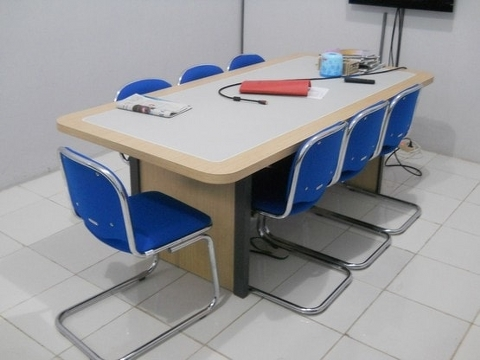kursi: (54, 147, 222, 360), (263, 100, 391, 271), (248, 122, 352, 314), (315, 84, 422, 235)
meja: (56, 52, 434, 299)
